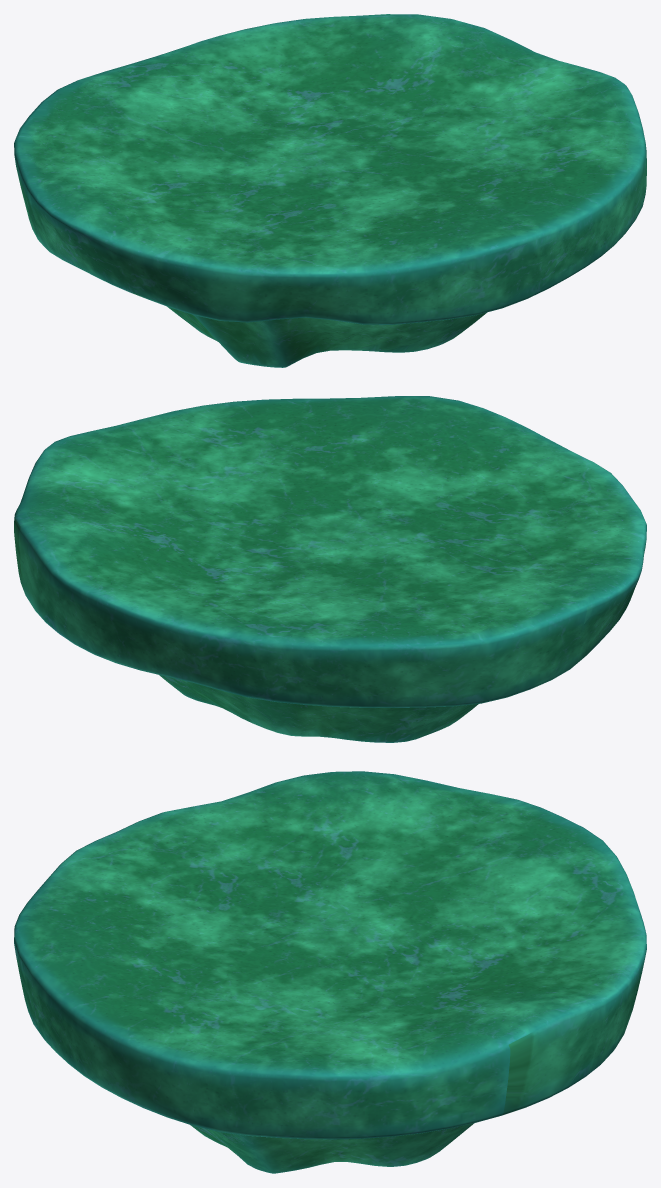
The model's file is islaTextura.fbx.
3 views of the same model, one above another, from view 1: azimuth 30°, elevation 25°; view 2: azimuth 150°, elevation 25°; view 3: azimuth 270°, elevation 25° (orthographic). The views are drawn at different scales.
Visible parts, largest first — view 1: Cylinder; view 2: Cylinder; view 3: Cylinder.
Boxes of the visible parts, box(x1,y1,x2,y2) form: Cylinder: box(14, 14, 646, 367); Cylinder: box(14, 396, 646, 742); Cylinder: box(14, 771, 646, 1173).
Size of the model in its own units: 865 by 259 by 768.
